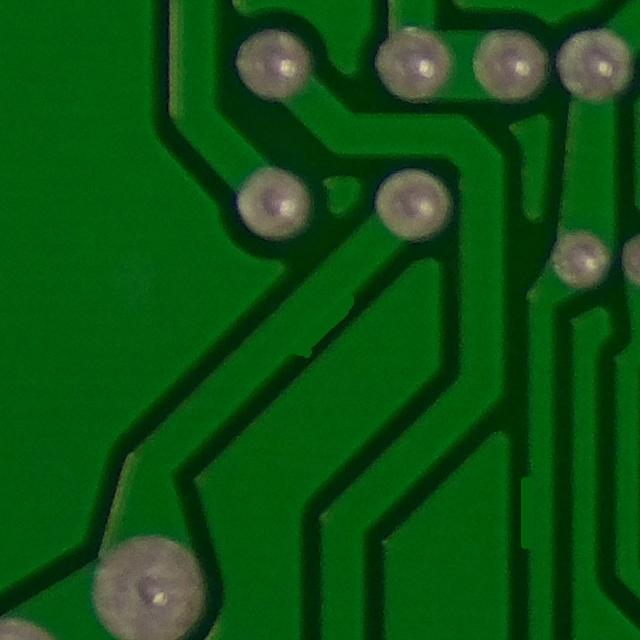spur: (271, 277, 369, 363)
